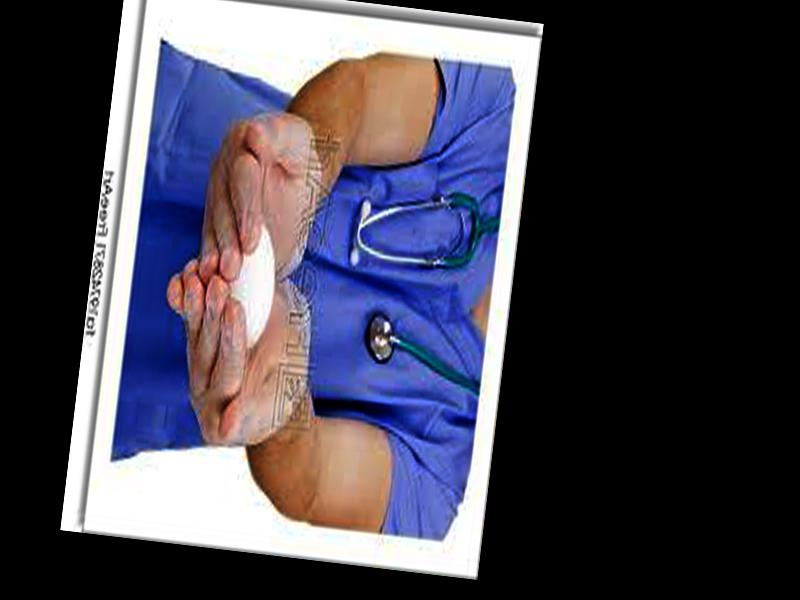Eggs: (220, 220, 282, 346)
